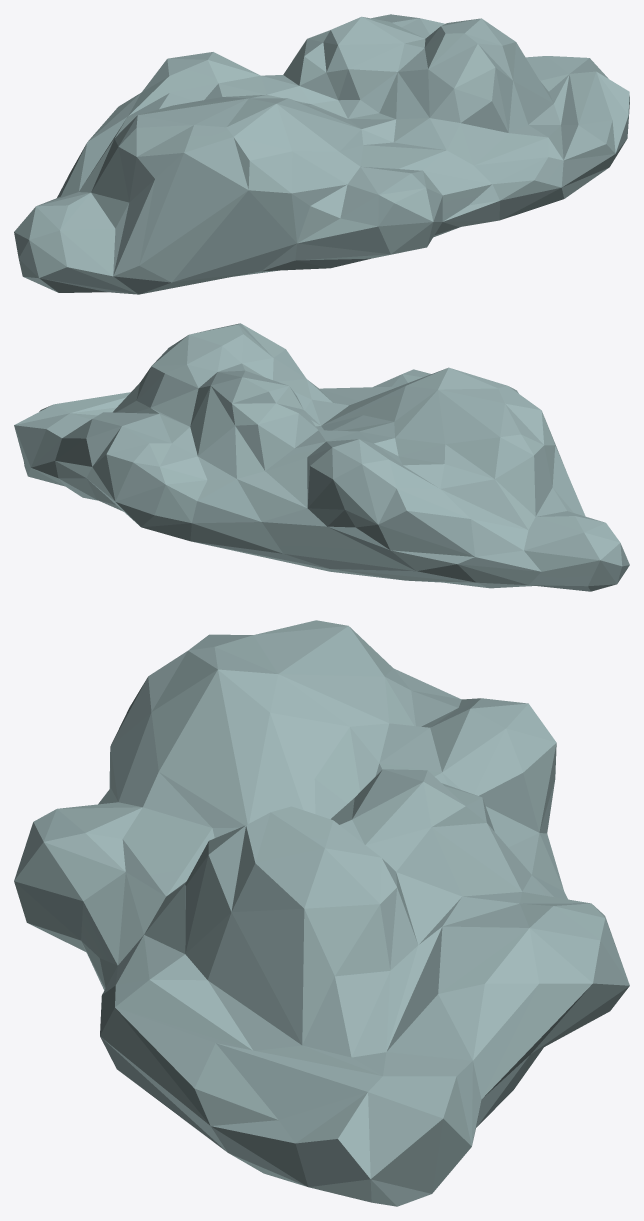
File: SM_Env_Cloud_03.glb
The picture shows the model from 3 angles, top to bottom: view 1: azimuth 30°, elevation 25°; view 2: azimuth 150°, elevation 25°; view 3: azimuth 270°, elevation 25°; orthographic projection. The views are drawn at different scales.
Parts seen in each view (by area): view 1: SM_Env_Cloud_03; view 2: SM_Env_Cloud_03; view 3: SM_Env_Cloud_03.
Boxes of the visible parts, <box> form: SM_Env_Cloud_03: <box>14,14,629,294</box>; SM_Env_Cloud_03: <box>14,323,629,591</box>; SM_Env_Cloud_03: <box>14,620,629,1206</box>.
Bounding box in the file's own units: 0.703 × 0.1984 × 0.3887.
